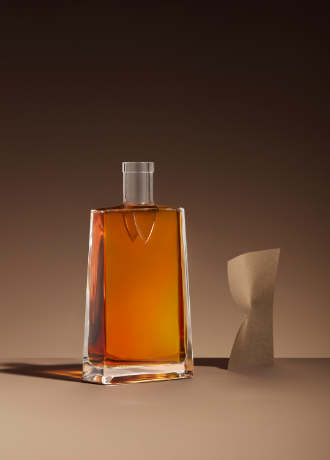glass_bottle: (80, 160, 198, 391)
